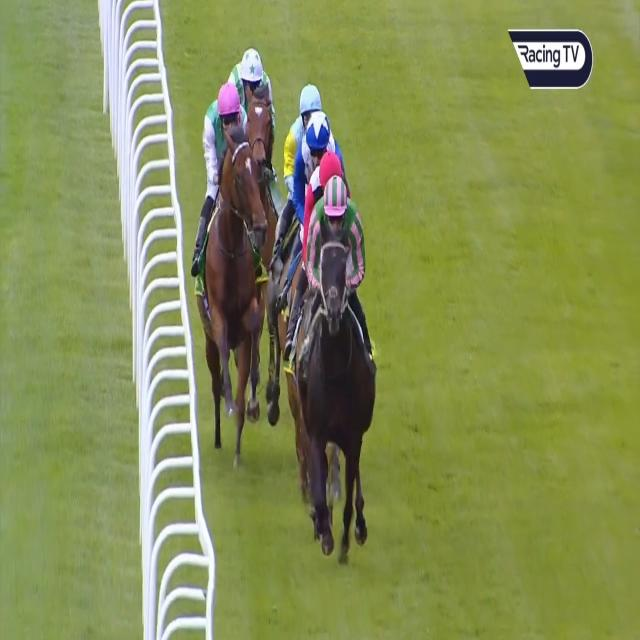horses-racing: (298, 169, 371, 567), (188, 77, 260, 443), (229, 36, 273, 142), (282, 81, 324, 186), (304, 137, 347, 226), (296, 103, 335, 187)
